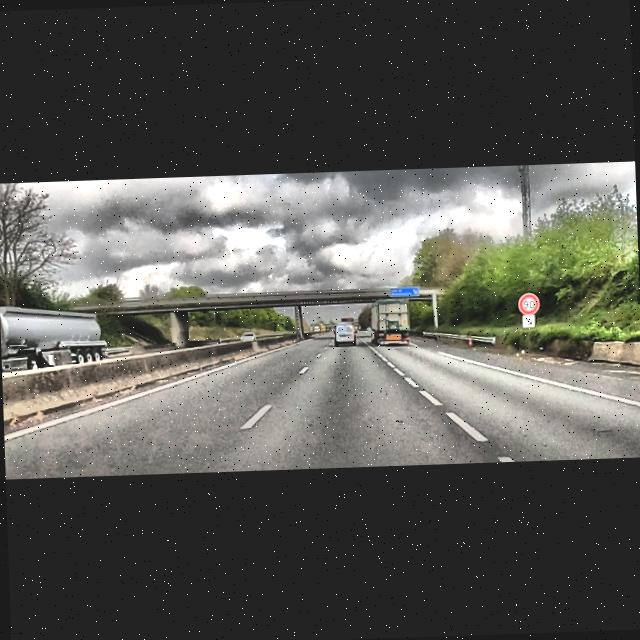speed_90: (519, 294, 538, 314)
